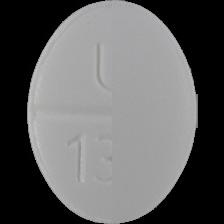61786-474: (0, 0, 224, 224)
